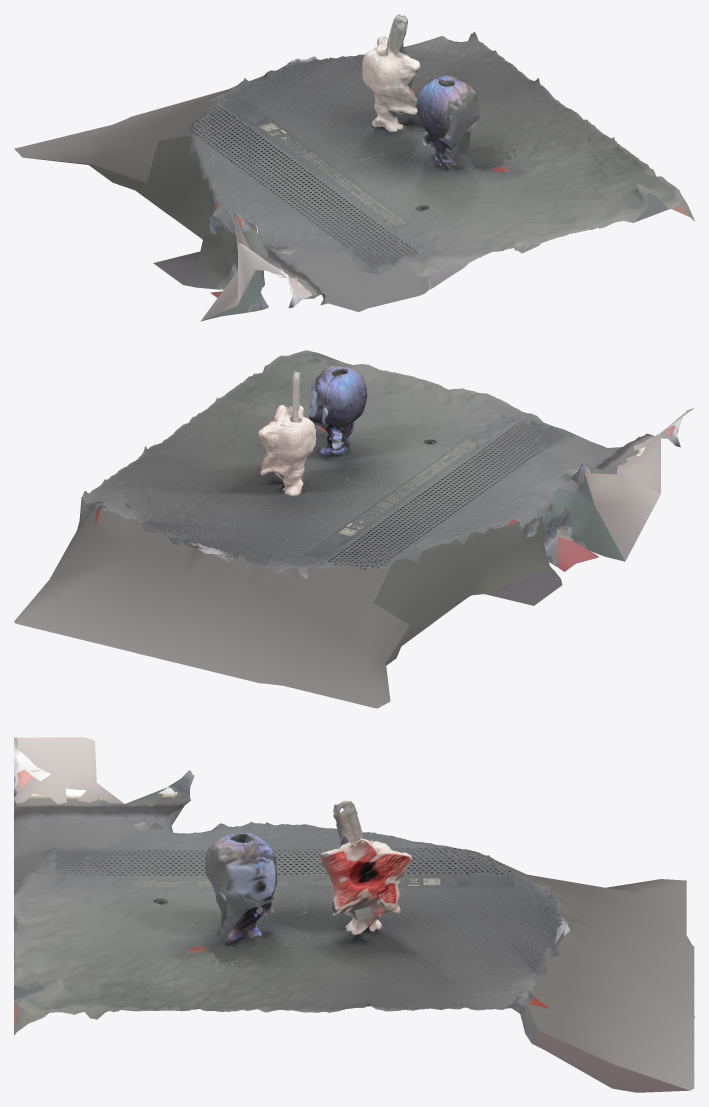
Rendered from demagorgon.glb.
The picture shows the model from 3 angles, top to bottom: view 1: azimuth 30°, elevation 25°; view 2: azimuth 150°, elevation 25°; view 3: azimuth 270°, elevation 25°; orthographic projection. The views are drawn at different scales.
Visible parts, largest first — view 1: shareModelobjcleanermaterialmergergles; view 2: shareModelobjcleanermaterialmergergles; view 3: shareModelobjcleanermaterialmergergles.
Boxes of the visible parts, x1,y1,x2,y2 form: shareModelobjcleanermaterialmergergles: (14,14,694,321); shareModelobjcleanermaterialmergergles: (14,350,694,708); shareModelobjcleanermaterialmergergles: (14,737,694,1092).
Size of the model in its own units: 0.2011 by 0.0847 by 0.2485.
1 material, 1 textured.
